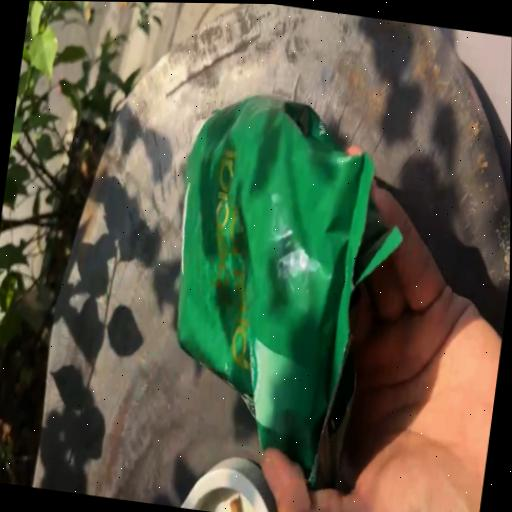cafe_xay: (178, 96, 401, 476)
